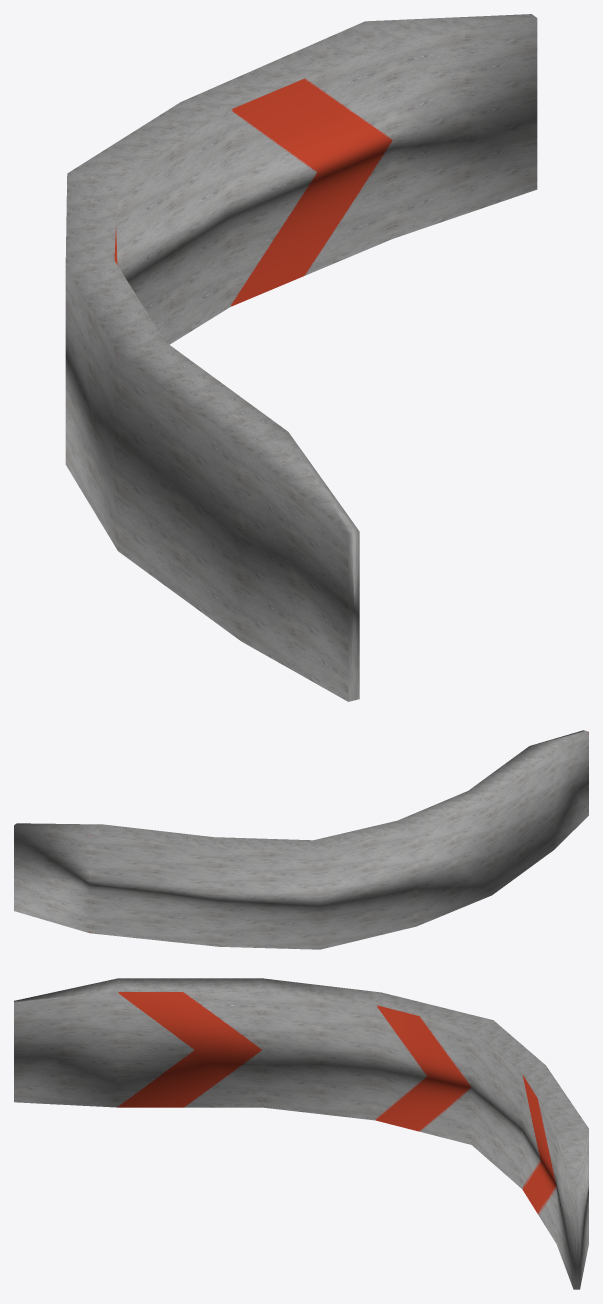
File: curvedBarrier.fbx
3 renders of one model, top to bottom at view 1: azimuth 30°, elevation 25°; view 2: azimuth 150°, elevation 25°; view 3: azimuth 270°, elevation 25°, orthographic. The views are drawn at different scales.
Parts seen in each view (by area): view 1: curvedBarrier; view 2: curvedBarrier; view 3: curvedBarrier.
Boxes of the visible parts, x1=… form: curvedBarrier: x1=65, y1=14, x2=537, y2=701; curvedBarrier: x1=14, y1=730, x2=588, y2=949; curvedBarrier: x1=14, y1=978, x2=588, y2=1289.
Size of the model in its own units: 1431 by 394 by 1776.
